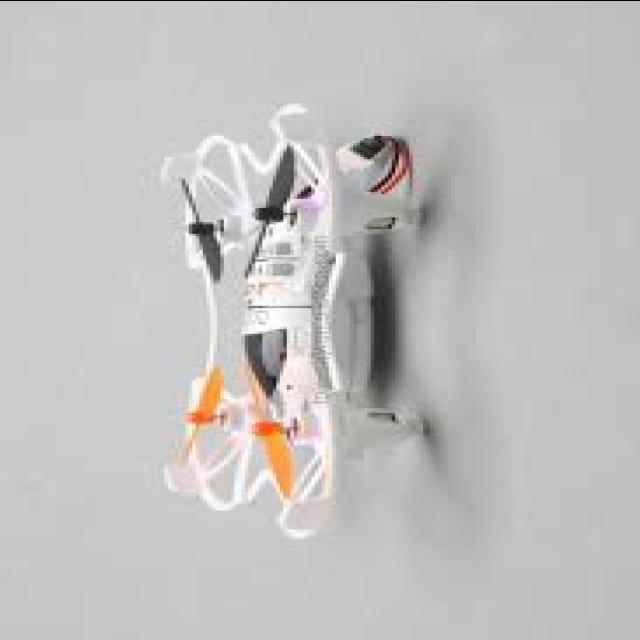drone: (145, 90, 450, 550)
